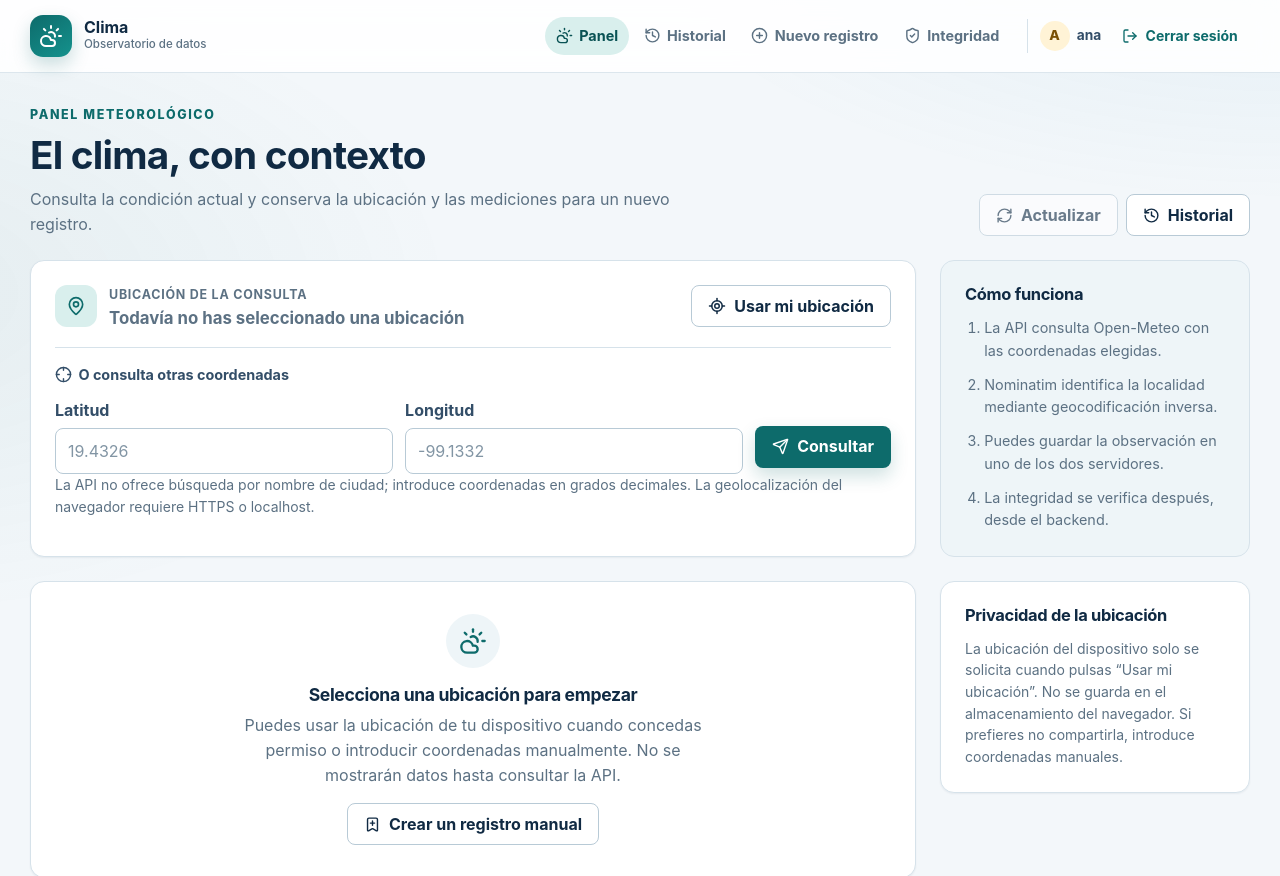
Test: panel meteorológico › permite usar la ubicación del dispositivo
The width and height of the screenshot is (1280, 876).
Expected: the heading "El clima, con contexto" is shown, [30,131,426,178]
Click the button "Usar mi ubicación": (791, 306) [691,285,891,327]
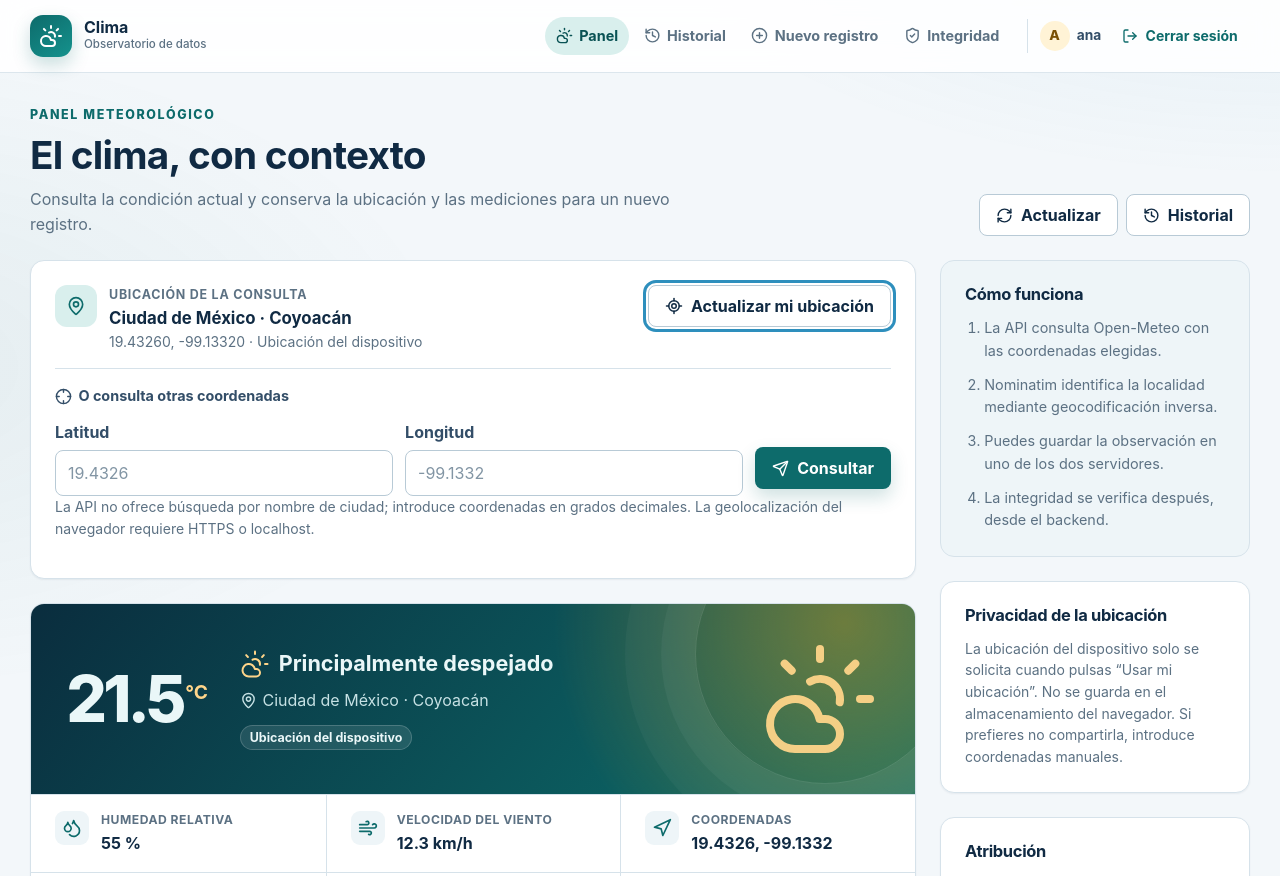
Now the text "Principalmente despejado" is shown, box [279,647,554,680]
Now the text "Ubicación del dispositivo" is shown, box [240,725,412,750]
